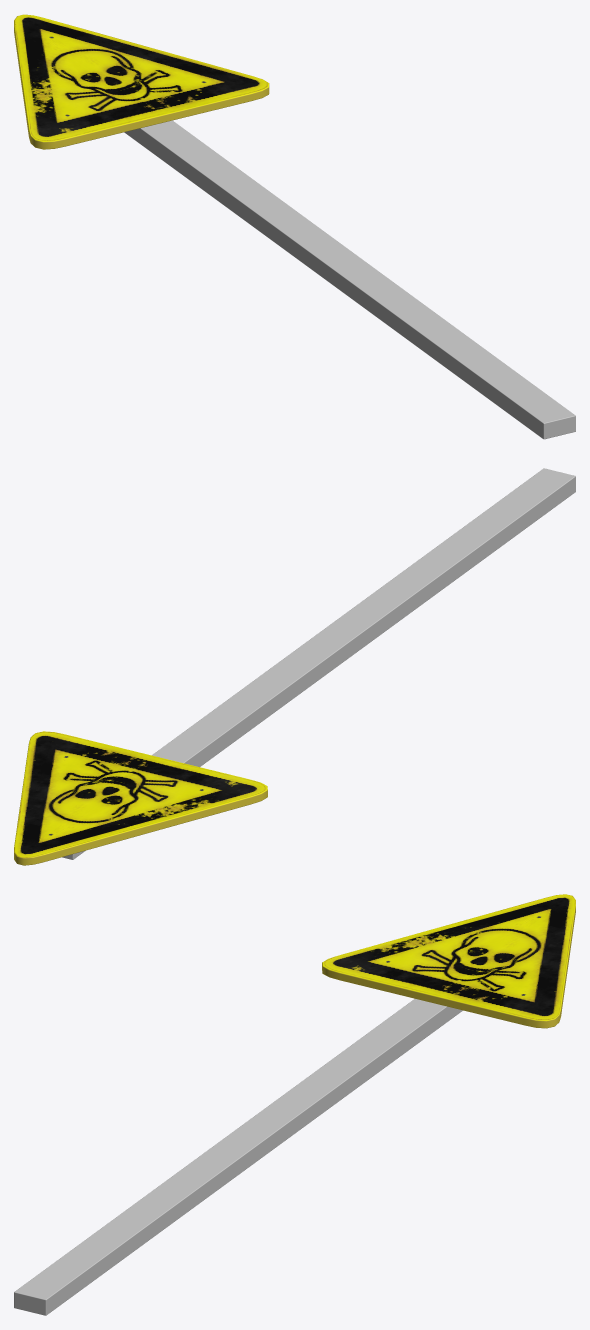
File: WarningSign.fbx
3 renders of one model, top to bottom at view 1: azimuth 30°, elevation 25°; view 2: azimuth 150°, elevation 25°; view 3: azimuth 330°, elevation 25°, orthographic.
Parts seen in each view (by area): view 1: Bar, Plane; view 2: Plane, Bar; view 3: Bar, Plane.
Part boxes in pixels (<box>): Bar: <box>124,120,575,439</box>; Plane: <box>14,14,269,149</box>; Plane: <box>14,731,267,865</box>; Bar: <box>62,468,575,859</box>; Bar: <box>14,999,462,1315</box>; Plane: <box>322,894,575,1028</box>.
Size of the model in its own units: 109 by 12.93 by 434.
